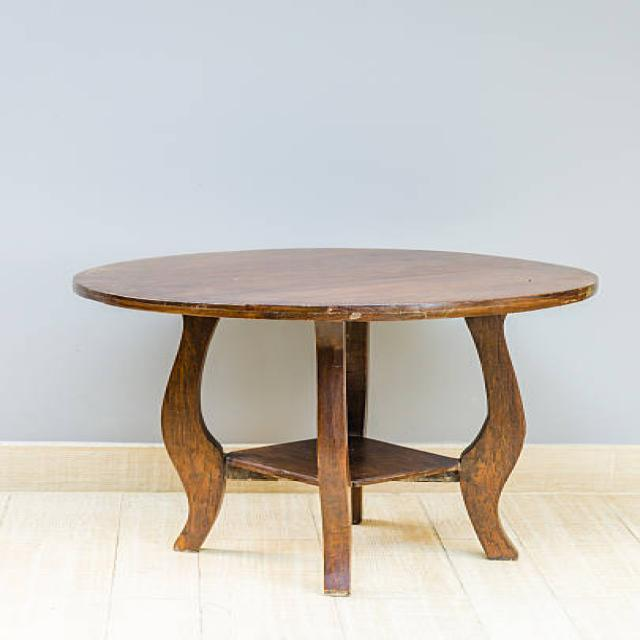table: (71, 246, 599, 596)
